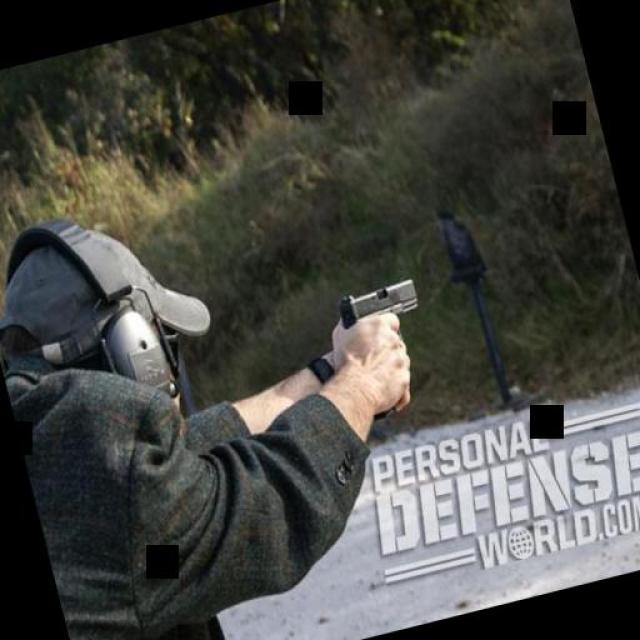gun: (333, 272, 442, 422)
